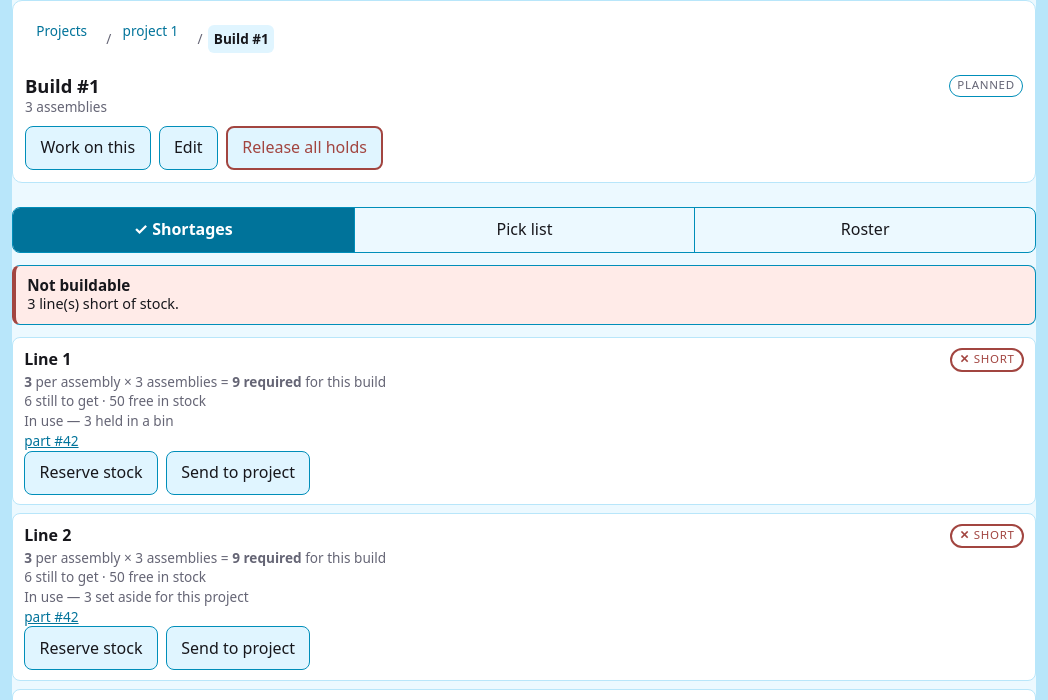
ADR 0004's namesake workflow › warns that the parts really move, not that they are merely marked
Click the button "Send to project" below "3 held in a bin" at (238, 472), box [166,450,310,494]
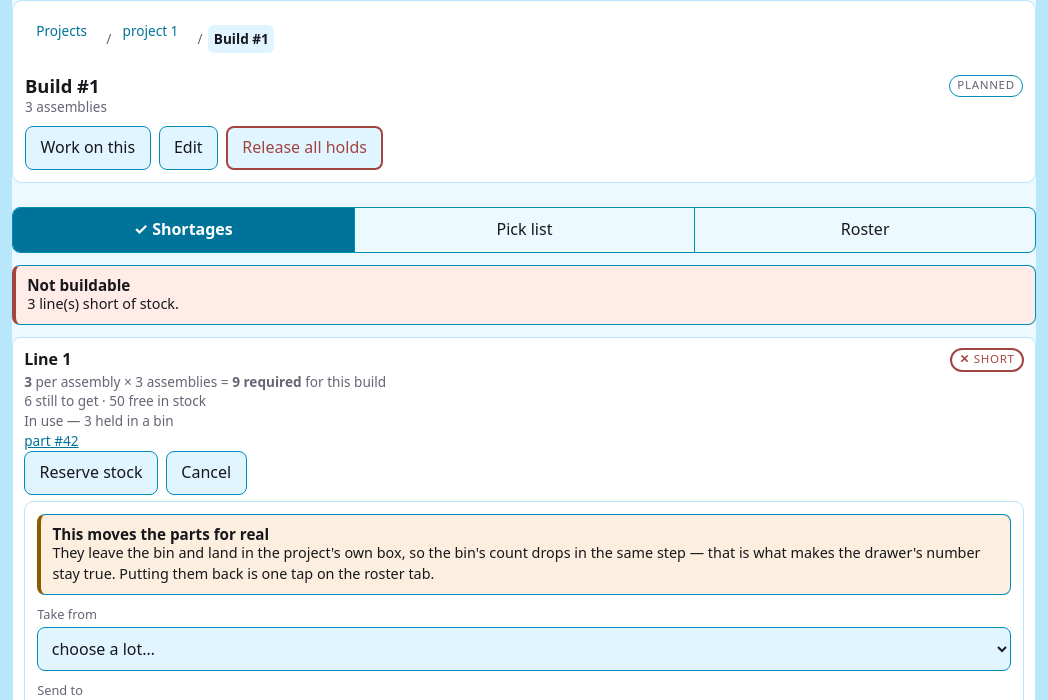
Now the heading "This moves the parts for real" is shown, box [52,524,269,544]
